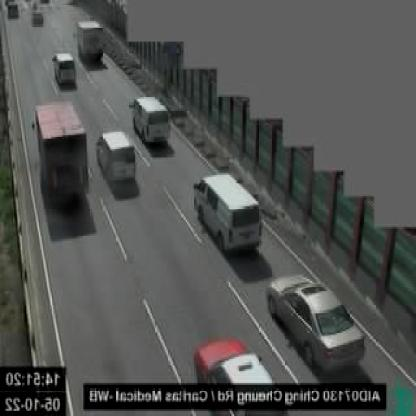Car: (268, 272, 369, 375), (195, 173, 263, 255), (98, 132, 139, 189), (134, 95, 169, 149), (76, 19, 106, 62), (53, 50, 77, 90)
Truck: (35, 101, 91, 208)
